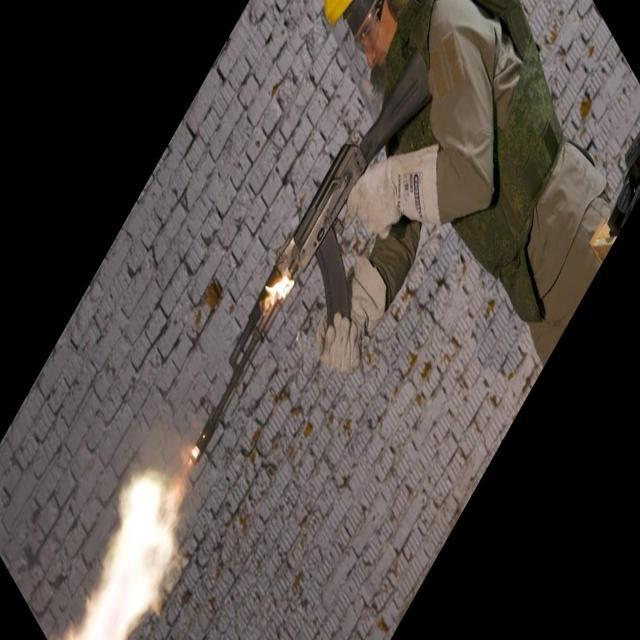weapon: (188, 48, 434, 466)
